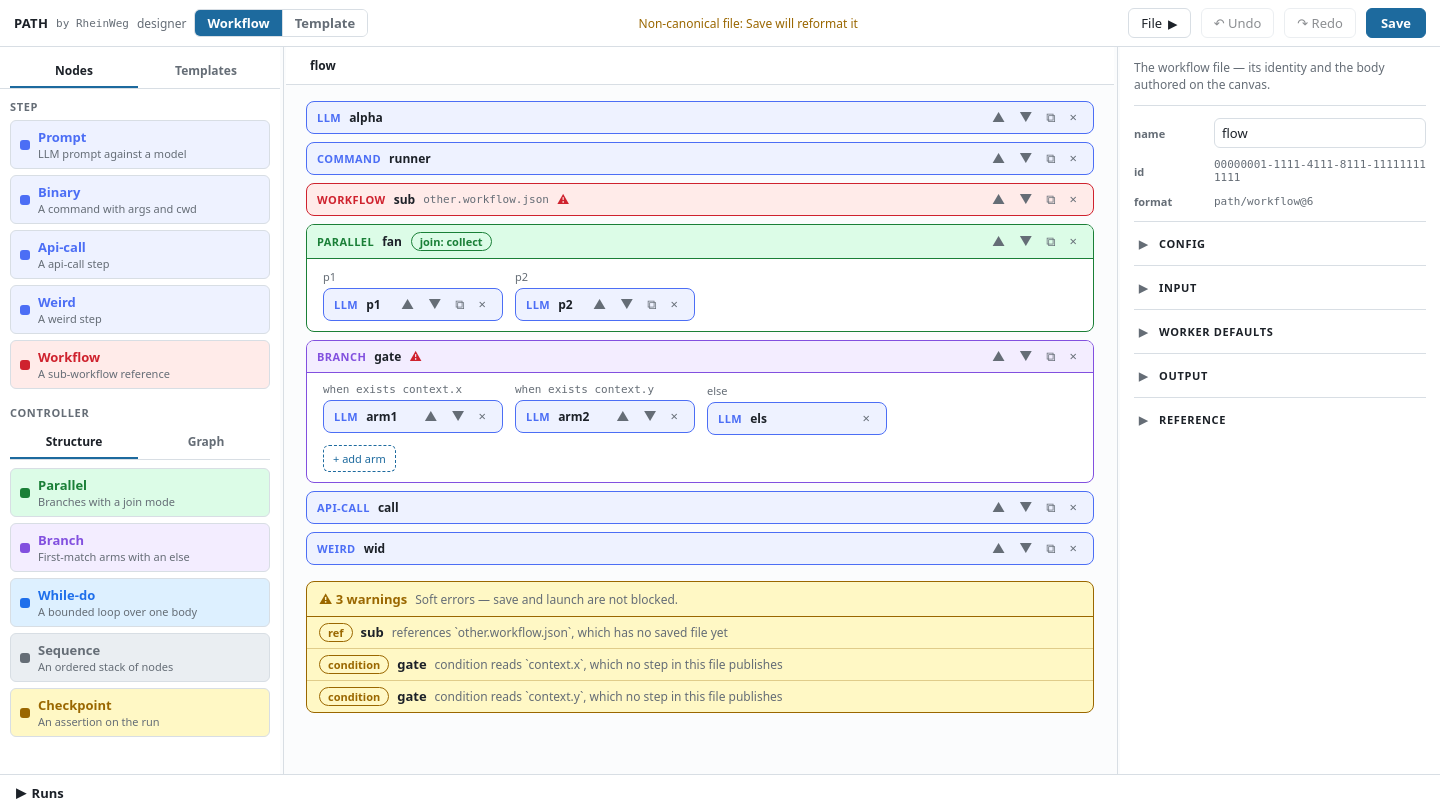
selection populates the pane › gives a top-level node no role, and an empty-canvas click shows the file's own properties
Expected: the text "alpha" is shown, [349,109,383,126]
Step 1. Click the text "alpha" → (700, 118), box [306,101,1094,134]
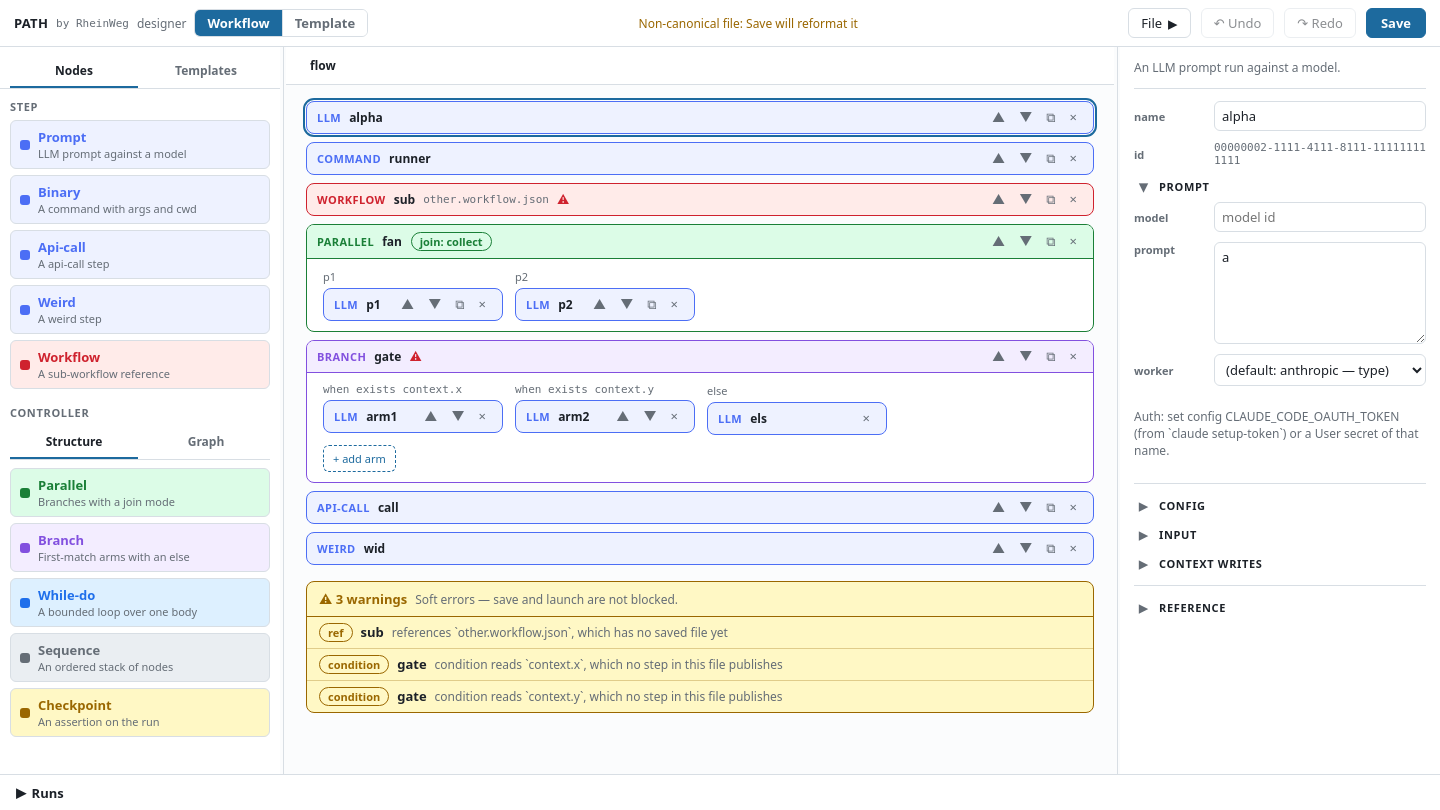
Step 2. Click the element with class "canvas-body" → (700, 733), box [286,85,1114,774]
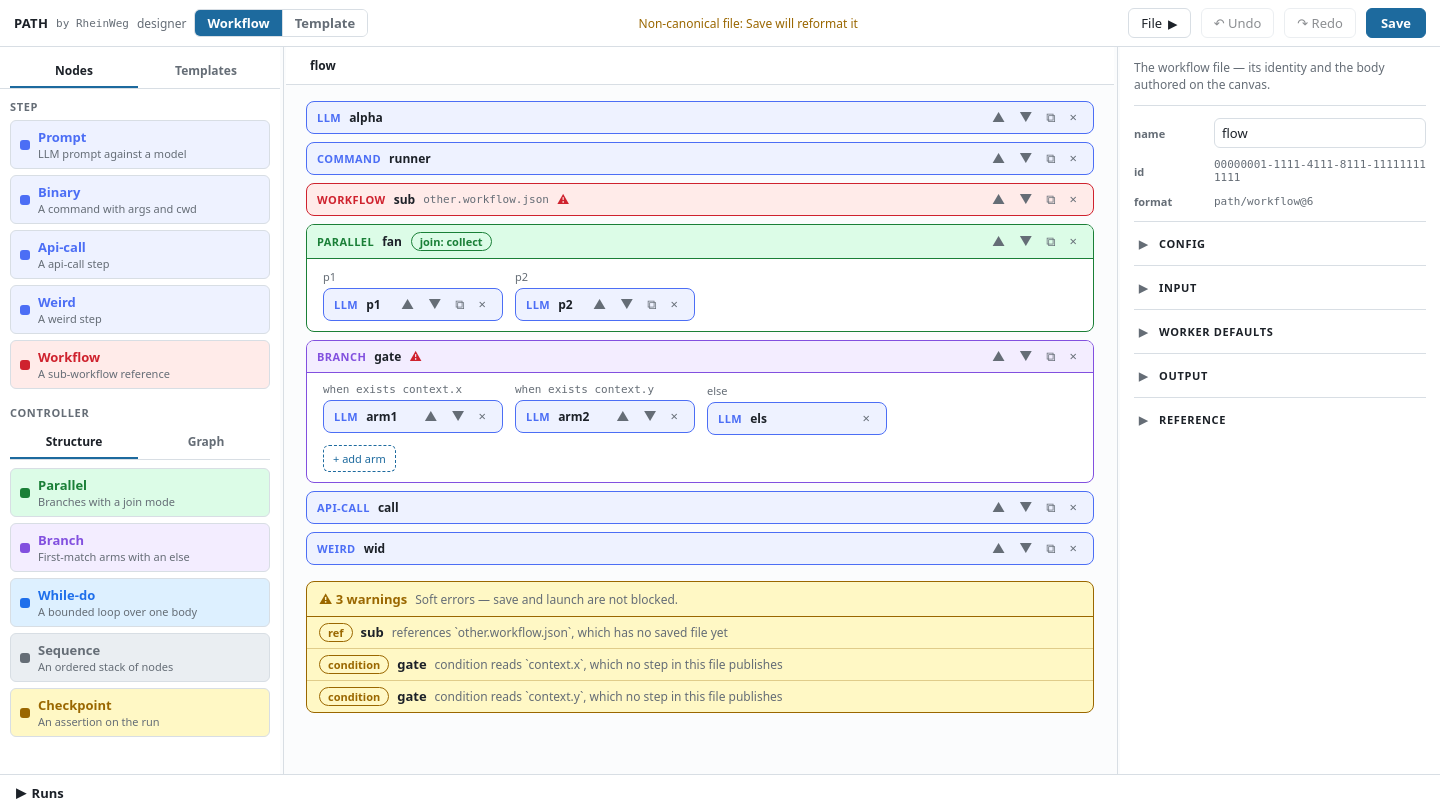
Expected: the field labelled "name" holds "flow", [1214,118,1426,148]
Expected: the text "path/workflow@6" is shown, [1214,195,1313,208]
